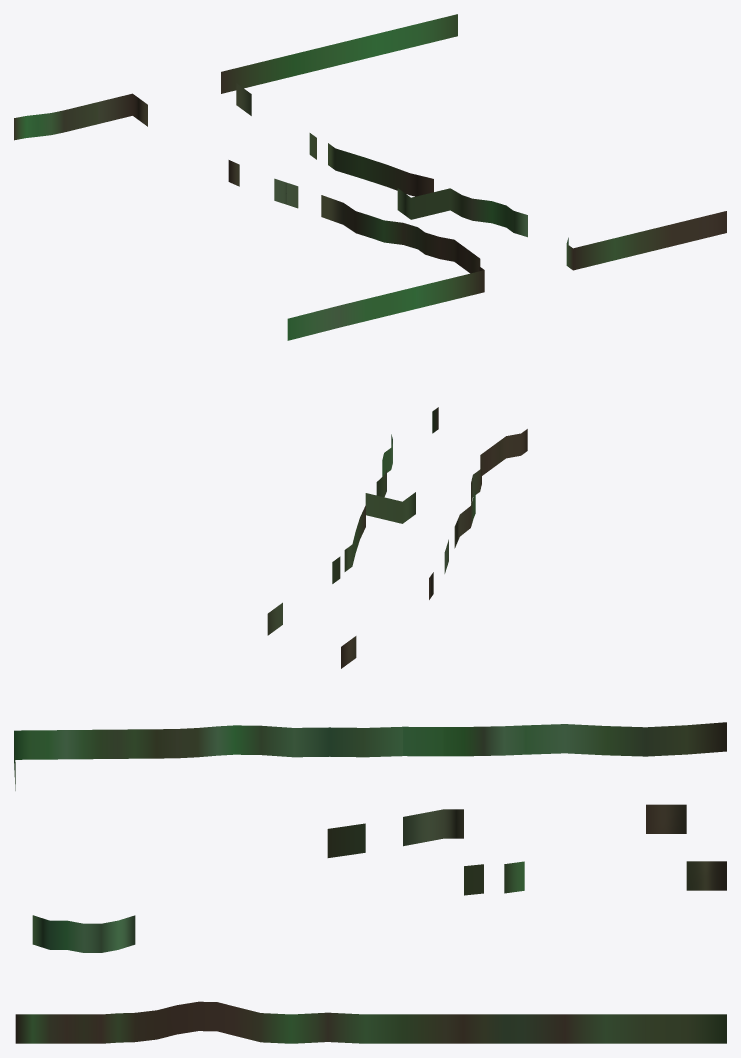
Rendered from fishingscape_outercollision.glb.
The picture shows the model from 3 angles, top to bottom: view 1: azimuth 30°, elevation 25°; view 2: azimuth 150°, elevation 25°; view 3: azimuth 270°, elevation 25°; orthographic projection. The views are drawn at different scales.
Parts seen in each view (by area): view 1: riverbed.001; view 2: riverbed.001; view 3: riverbed.001.
Part boxes in pixels (left/top/right/bottom): riverbed.001: left=14, top=14, right=726, bottom=340; riverbed.001: left=267, top=407, right=527, bottom=668; riverbed.001: left=14, top=722, right=726, bottom=1043.
Bounding box in the file's own units: 145 × 10 × 152.
